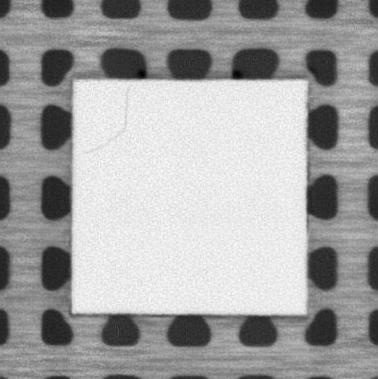DIE_CRACK: (82, 87, 129, 156)
